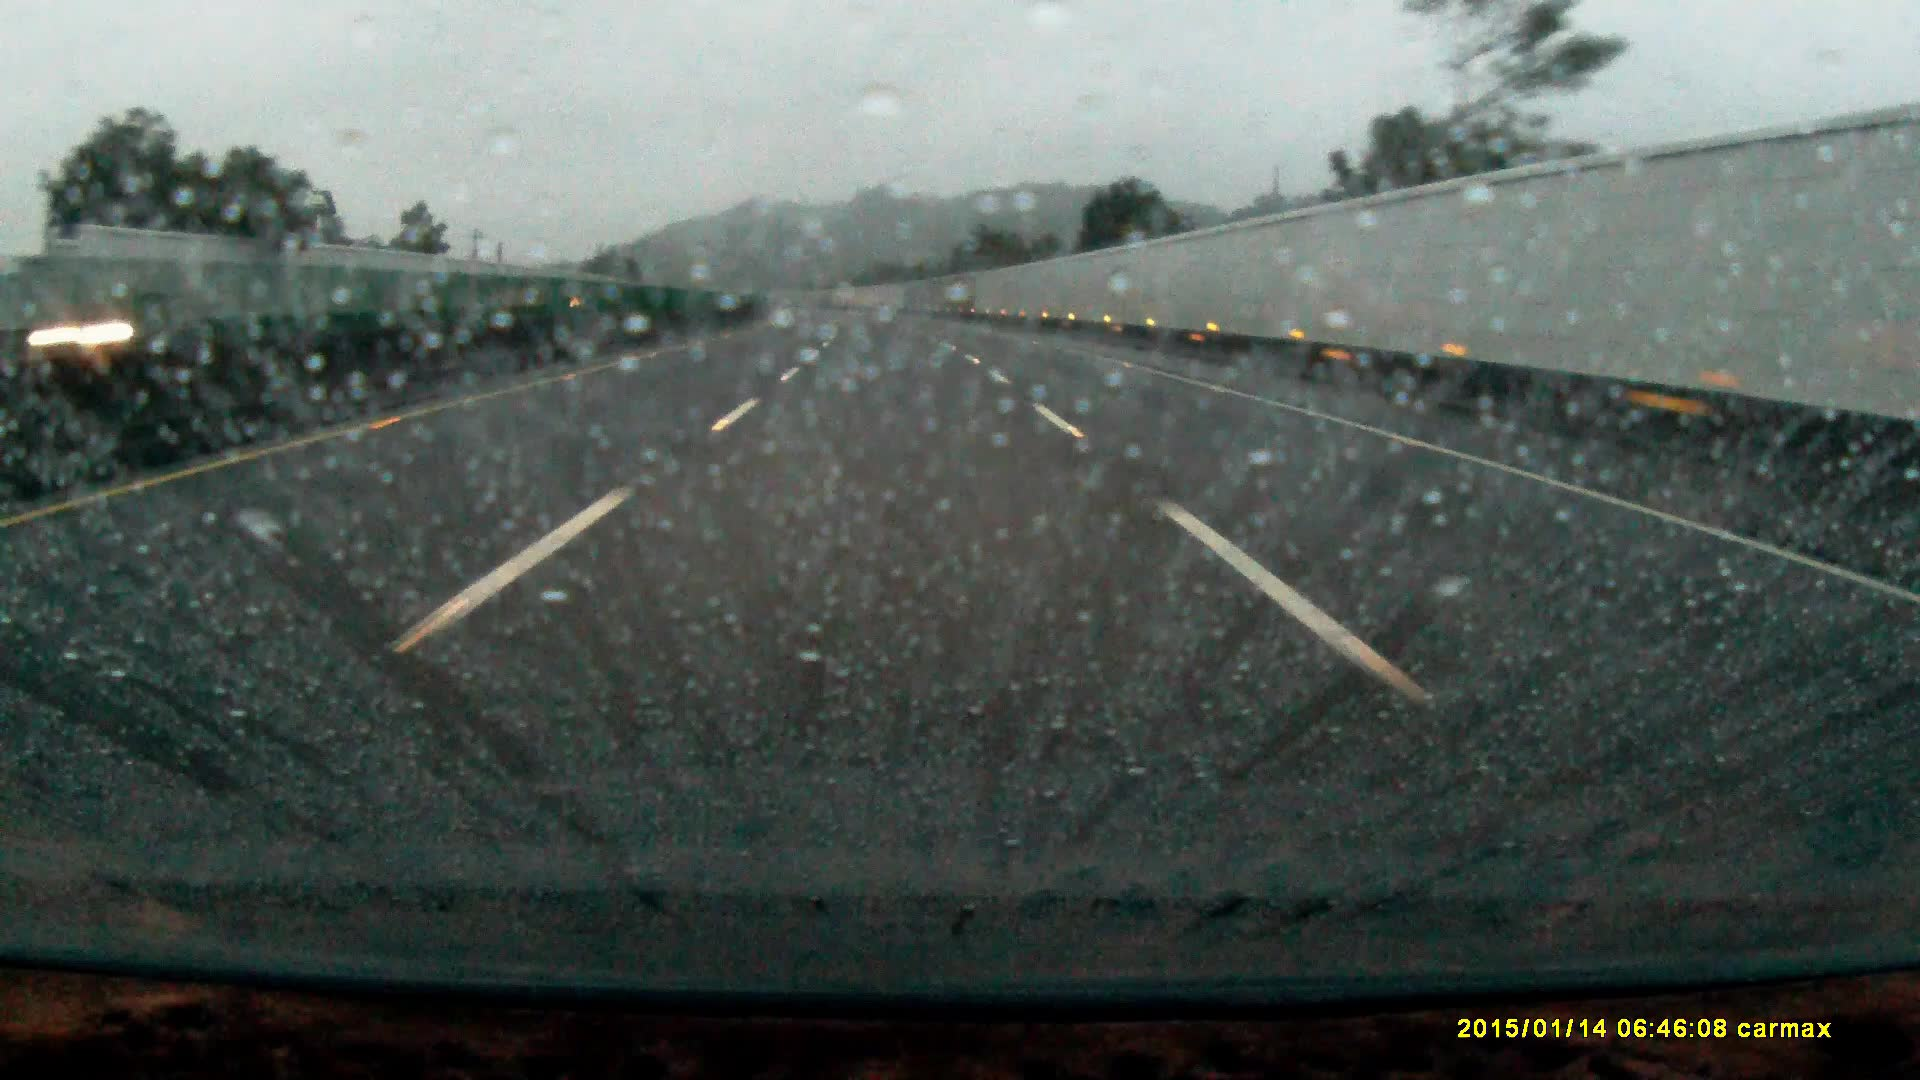vehicle: (28, 294, 223, 352)
